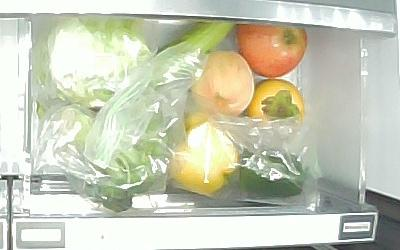apple: (235, 24, 310, 78)
broccoli_vinyl: (48, 106, 168, 213)
cucumber_vinyl: (151, 22, 235, 84)
lettuce_vinyl: (46, 18, 154, 109)
paprika_vinyl: (166, 109, 239, 196), (241, 143, 310, 200)
peach: (184, 50, 253, 116)
persimmon: (245, 79, 303, 120)
